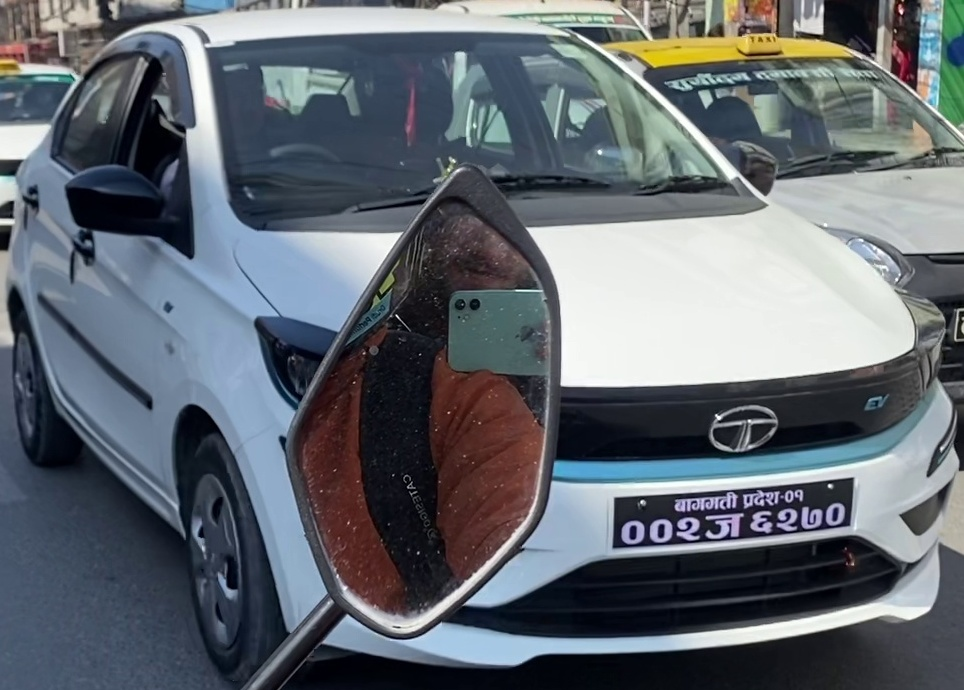license_plate: (612, 477, 855, 549)
